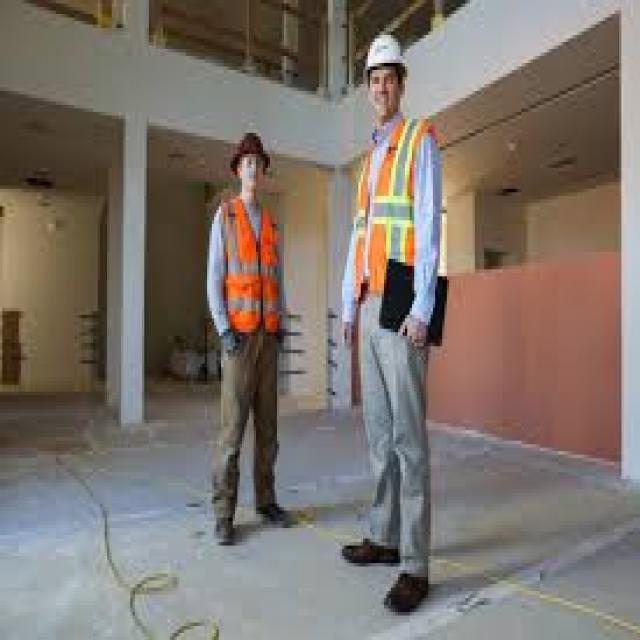Reflective-Jacket: (342, 108, 454, 322), (212, 192, 288, 357)
Safety-Helmet: (223, 115, 280, 178), (361, 24, 414, 84)
